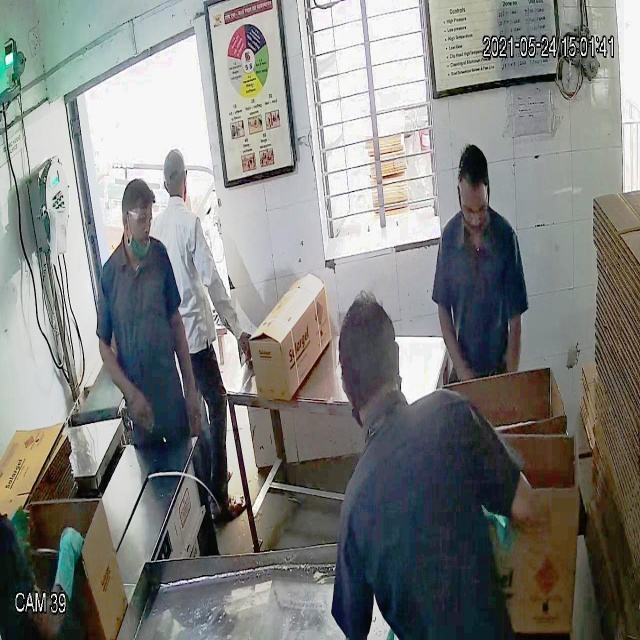Gafas: (117, 204, 156, 235)
